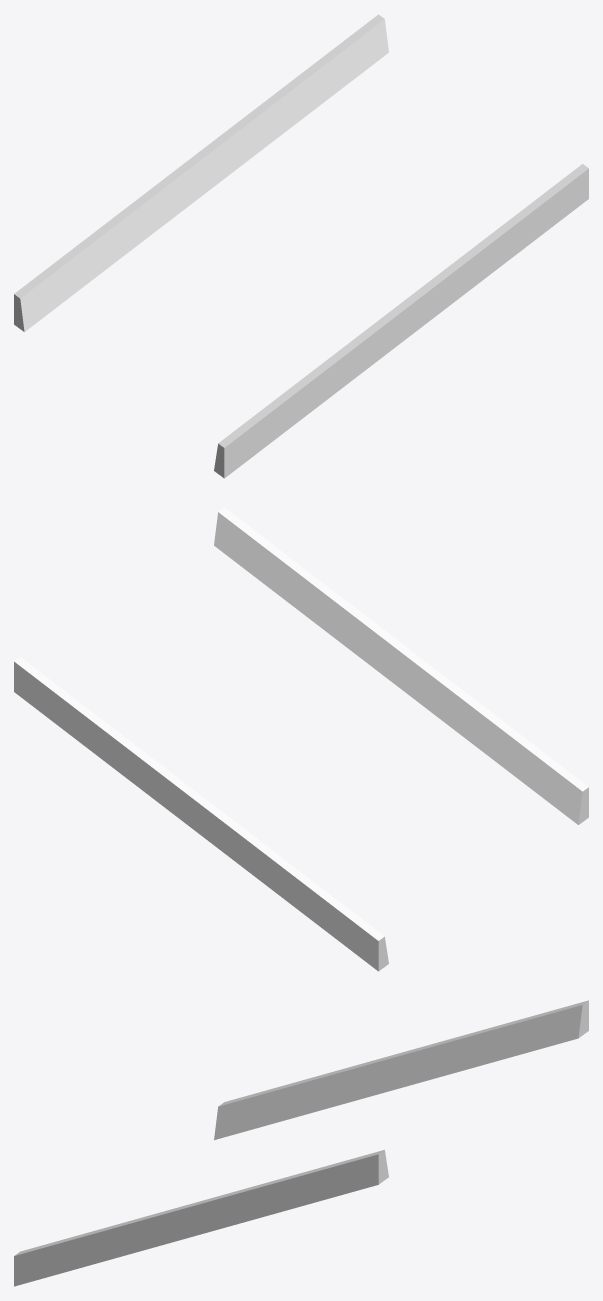
File: road_slant_high_barrier.glb
3 renders of one model, top to bottom at view 1: azimuth 30°, elevation 25°; view 2: azimuth 150°, elevation 25°; view 3: azimuth 330°, elevation 25°, orthographic.
Parts seen in each view (by area): view 1: road-slant-high-barrier; view 2: road-slant-high-barrier; view 3: road-slant-high-barrier.
Part boxes in pixels (left/top/right/bottom): road-slant-high-barrier: left=14, top=14, right=588, bottom=478; road-slant-high-barrier: left=14, top=507, right=588, bottom=971; road-slant-high-barrier: left=14, top=1000, right=588, bottom=1286.
Size of the model in its own units: 1 by 0.58 by 1.
Materials: 1 (1 with a texture image).
